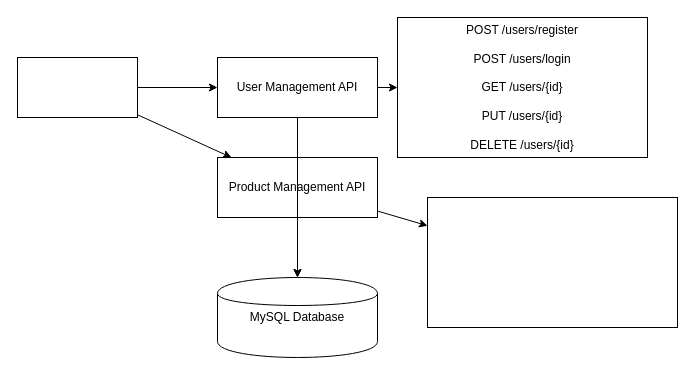
This 695x375 diagram has some shape labels left out. Each missing label, with the box of its shape:
Client: (16, 56, 138, 118)
POST /products GET /products/{id} PUT /products/{id} DELETE /products/{id}: (426, 196, 678, 328)
